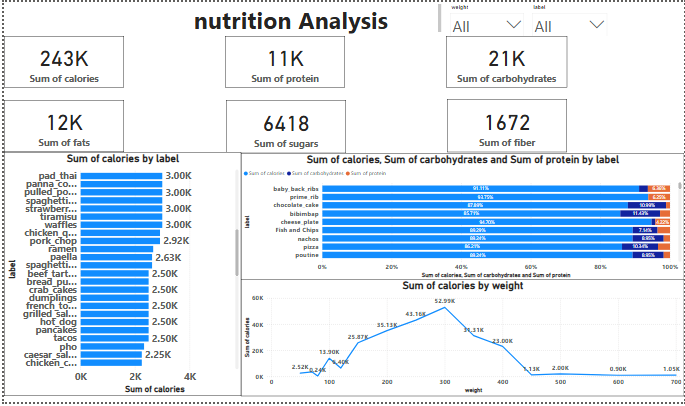

Layout of this report page (visuals, bound fields, positions):
{"tool":"powerbi","page":{"name":"Dashboard","canvas":[1700,1000],"ordinal":0},"visuals":[{"type":"textbox","box":[344.4,0,752.5,84],"z":0},{"type":"card","fields":{"Values":["Sum(nutrition.calories)"]},"box":[0,85,300,130],"z":1000},{"type":"card","fields":{"Values":["Sum(nutrition.protein)"]},"box":[552.5,85,300,130],"z":2000},{"type":"card","fields":{"Values":["Sum(nutrition.carbohydrates)"]},"box":[1105,85,302.5,130],"z":3000},{"type":"card","fields":{"Values":["Sum(nutrition.fats)"]},"box":[0,245,300,130],"z":4000},{"type":"card","fields":{"Values":["Sum(nutrition.sugars)"]},"box":[553.8,245,300,132.5],"z":5000},{"type":"card","fields":{"Values":["Sum(nutrition.fiber)"]},"box":[1107.5,242.5,300,132.5],"z":6000},{"type":"barChart","fields":{"Category":["nutrition.label"],"Y":["Sum(nutrition.calories)"]},"box":[0,387.1,592.9,610],"z":7000},{"type":"hundredPercentStackedBarChart","fields":{"Category":["nutrition.label"],"Y":["Sum(nutrition.calories)","Sum(nutrition.carbohydrates)","Sum(nutrition.protein)"]},"box":[592.5,377.5,1107.5,320],"z":8000},{"type":"slicer","fields":{"Values":["nutrition.label"]},"box":[1310,0,207.5,85],"z":9000},{"type":"slicer","fields":{"Values":["nutrition.weight"]},"box":[1105,0,205,85],"z":10000},{"type":"lineChart","fields":{"Category":["nutrition.weight"],"Y":["Sum(nutrition.calories)"]},"box":[592.5,692.5,1107.5,292.5],"z":11000}]}

Visuals, with their boxes in screenshot pixels (x1, y1, x2, y2), scaled from the page's 1700x1000 canvas onto the 685x406 screenshot:
textbox: select_region(139, 0, 442, 34)
card - Sum(nutrition.calories): select_region(0, 35, 121, 87)
card - Sum(nutrition.protein): select_region(223, 35, 344, 87)
card - Sum(nutrition.carbohydrates): select_region(445, 35, 567, 87)
card - Sum(nutrition.fats): select_region(0, 99, 121, 152)
card - Sum(nutrition.sugars): select_region(223, 99, 344, 153)
card - Sum(nutrition.fiber): select_region(446, 98, 567, 152)
barChart - nutrition.label x Sum(nutrition.calories): select_region(0, 157, 239, 405)
hundredPercentStackedBarChart - nutrition.label x Sum(nutrition.calories): select_region(239, 153, 684, 283)
slicer - nutrition.label: select_region(528, 0, 611, 35)
slicer - nutrition.weight: select_region(445, 0, 528, 35)
lineChart - nutrition.weight x Sum(nutrition.calories): select_region(239, 281, 684, 400)
